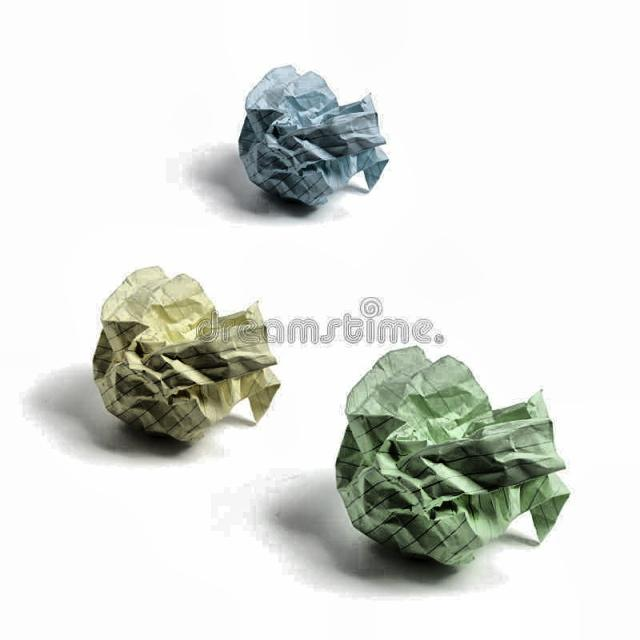Paper: (333, 345, 570, 570), (90, 263, 282, 446), (236, 62, 391, 212)
